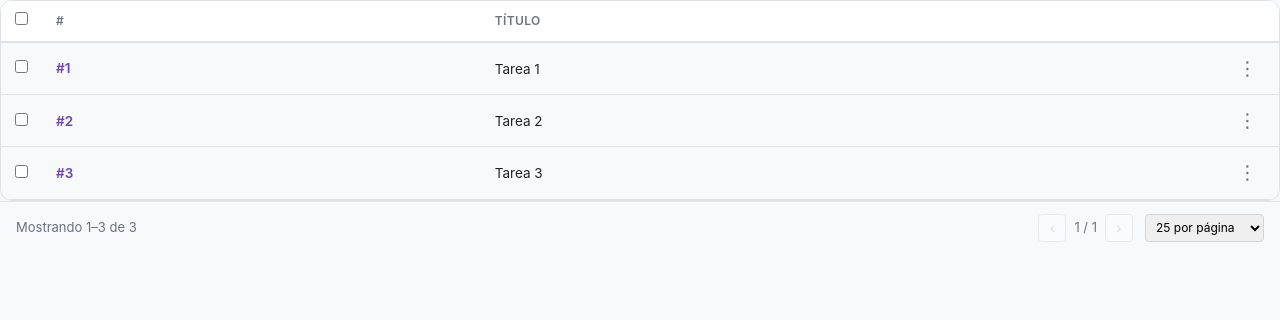
Test case: TasksTableView — bulk Archivar (#86) › Archivar button disabled when selection contains open tasks
Click the checkbox named "Seleccionar todos". click: (22,18)
box: [15,12,28,25]
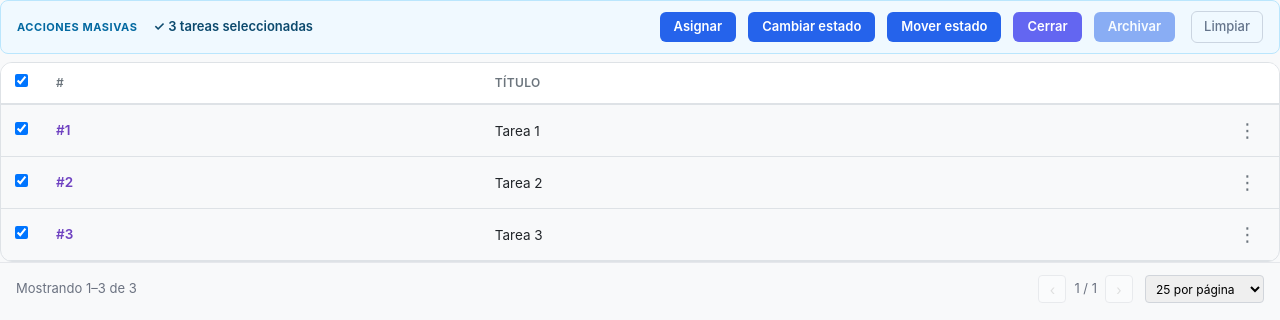
Result: the button with test id "bulk-archive-btn" is disabled at [1094,12,1175,42]
